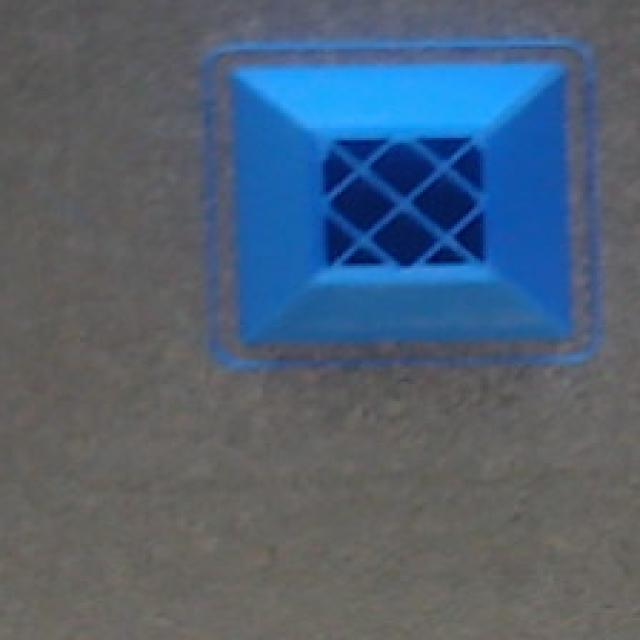noMistake: (214, 55, 576, 355)
